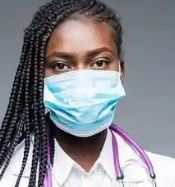with_facemask: (44, 68, 123, 139)
